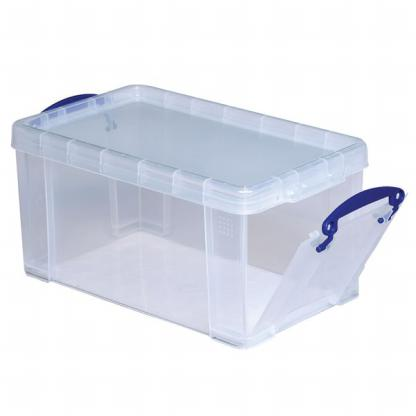plastic_box: (5, 64, 415, 353)
